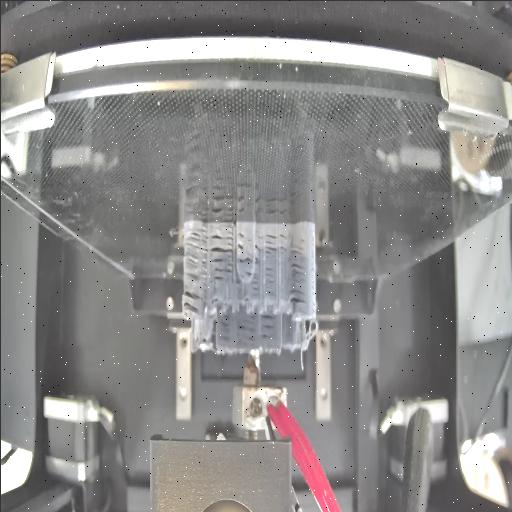cracks: (182, 228, 208, 280), (289, 248, 307, 306), (210, 222, 232, 262), (253, 232, 287, 254), (238, 313, 256, 343), (182, 290, 202, 316), (216, 312, 232, 342), (260, 314, 276, 342), (214, 266, 232, 286), (264, 266, 276, 294), (238, 253, 259, 266), (250, 277, 260, 299), (235, 230, 245, 250), (243, 268, 252, 276)
